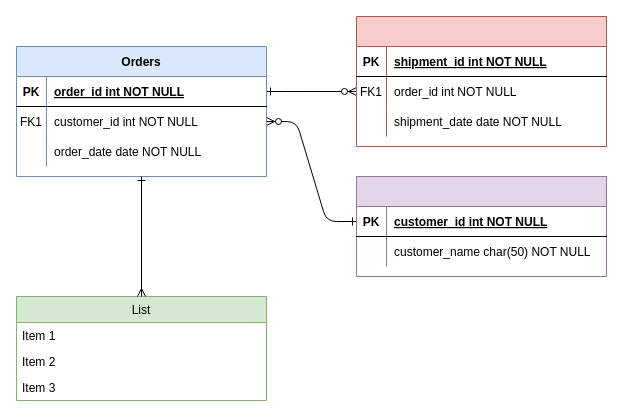
The diagram is 623 pixels wide and 417 high, and some of its shapes have lost their labels. The box of each missing label's shape, as (x1, y1, x2, y2) in pixels:
Customers: (356, 176, 606, 276)
Shipments: (356, 16, 606, 146)
